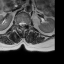CCS_normal: (21, 20, 23, 29)
LFS_normal: (25, 20, 28, 27)
LLS_normal: (23, 20, 25, 28)
RFS_normal: (16, 20, 19, 27)
RLS_normal: (19, 19, 21, 27)
